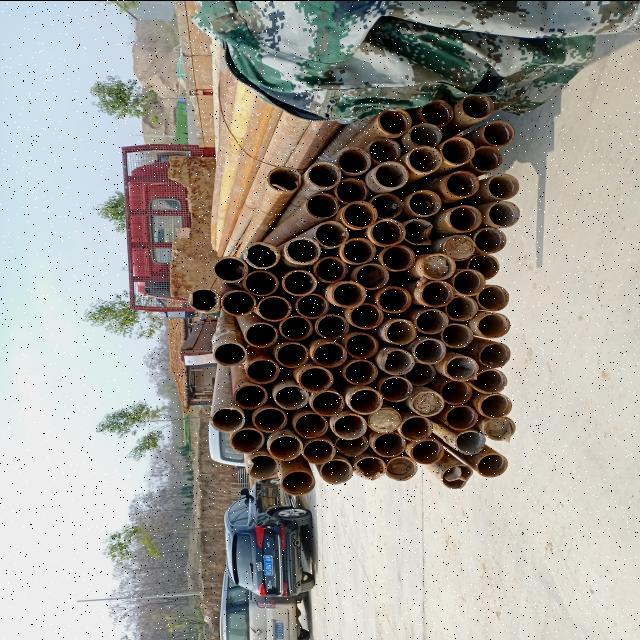pipe: (244, 240, 280, 268), (342, 200, 378, 228), (468, 368, 508, 393), (244, 268, 279, 296), (348, 386, 383, 414), (445, 169, 480, 197), (447, 204, 482, 232), (212, 255, 248, 282), (370, 218, 406, 245), (286, 235, 320, 263), (306, 190, 340, 218), (314, 219, 348, 247), (332, 280, 366, 308), (337, 146, 371, 174), (334, 176, 368, 204), (378, 106, 412, 134), (374, 160, 408, 188), (408, 144, 442, 172), (407, 188, 441, 216), (341, 236, 376, 263), (252, 406, 288, 432), (342, 358, 378, 384), (307, 160, 341, 187), (314, 255, 348, 282), (382, 243, 416, 270), (420, 98, 454, 125), (422, 252, 456, 279), (441, 136, 475, 163), (221, 289, 256, 315), (257, 294, 292, 320), (233, 382, 268, 408), (280, 469, 315, 495), (349, 302, 384, 328), (332, 413, 367, 439), (399, 414, 434, 440), (439, 322, 474, 348), (439, 378, 474, 404), (268, 434, 304, 459), (453, 268, 486, 295), (482, 119, 515, 146), (210, 406, 244, 432), (244, 321, 278, 347), (282, 269, 316, 295), (296, 292, 330, 318), (279, 314, 313, 340), (275, 342, 309, 368), (316, 313, 350, 339), (313, 341, 347, 367), (298, 365, 332, 391), (310, 390, 344, 416), (294, 412, 328, 438), (302, 438, 336, 464), (354, 262, 388, 288), (368, 136, 402, 162), (368, 192, 402, 218), (378, 286, 412, 312), (378, 375, 412, 401), (368, 406, 402, 432), (420, 280, 454, 306), (415, 307, 449, 333), (411, 390, 445, 416), (460, 92, 494, 118), (442, 234, 476, 260), (444, 354, 478, 380), (476, 311, 510, 337), (478, 392, 512, 418), (409, 438, 444, 463), (266, 166, 302, 190), (273, 384, 309, 408), (402, 218, 434, 245), (382, 348, 415, 374), (445, 294, 478, 320), (466, 252, 499, 278), (246, 358, 280, 383), (230, 427, 264, 452), (319, 458, 353, 483), (444, 404, 478, 429), (247, 452, 279, 478), (346, 332, 378, 358), (385, 318, 417, 344), (385, 454, 417, 480), (470, 145, 502, 171), (486, 172, 518, 198), (488, 200, 520, 226), (474, 226, 506, 252), (476, 284, 508, 310), (413, 338, 446, 363), (408, 122, 442, 146), (373, 432, 406, 456), (478, 342, 511, 366), (188, 288, 220, 312), (214, 341, 246, 365), (354, 456, 386, 480), (404, 361, 436, 385), (441, 464, 473, 488), (484, 416, 516, 440), (476, 452, 508, 476), (334, 434, 368, 456), (455, 429, 485, 453)
